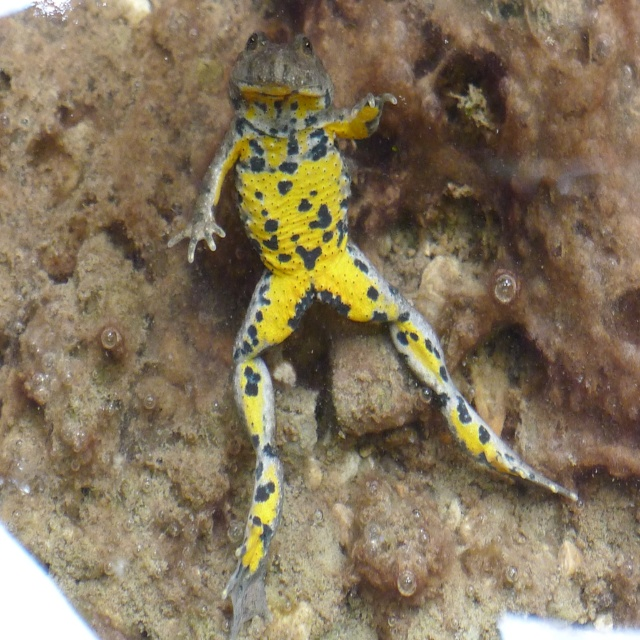Frog: (166, 30, 580, 639)
